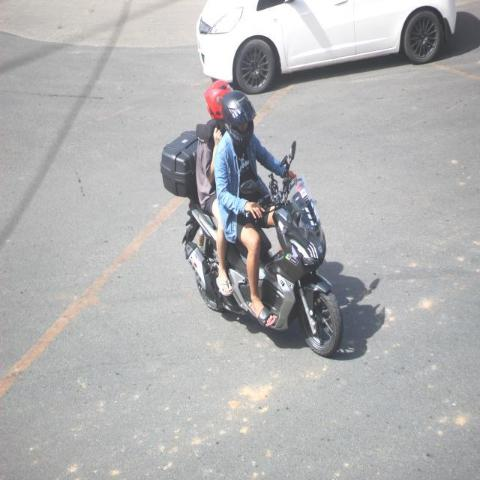car: (194, 0, 464, 105)
motorcycle: (159, 79, 344, 358)
